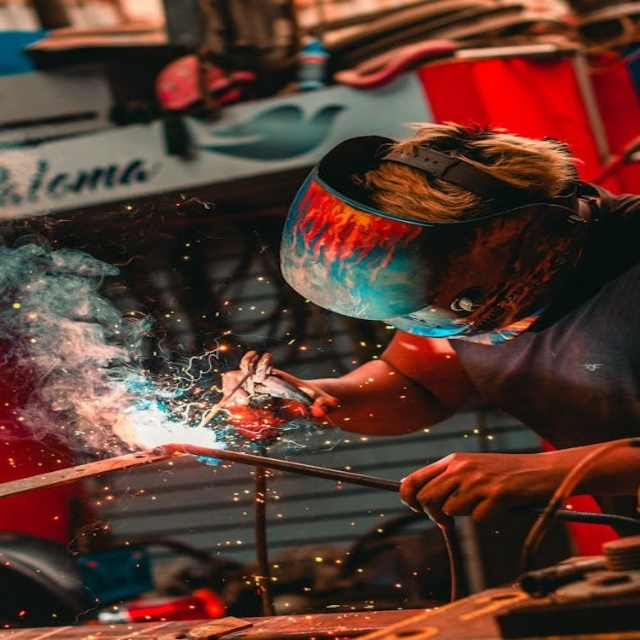Sin_guantes: (394, 439, 632, 536), (214, 351, 336, 424)
